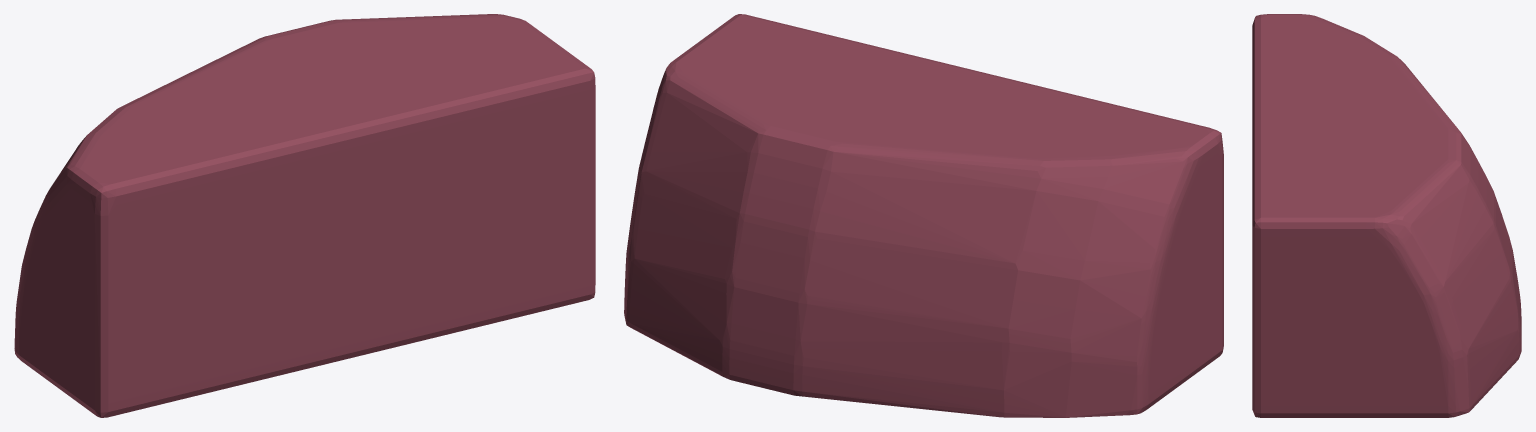
The model's file is right_hip_yaw_link_part_13.obj.
3 renders of one model, left to right at view 1: azimuth 30°, elevation 25°; view 2: azimuth 150°, elevation 25°; view 3: azimuth 270°, elevation 25°, orthographic. The views are drawn at different scales.
Bounding box in the file's own units: 0.0752 × 0.0333 × 0.0407.
